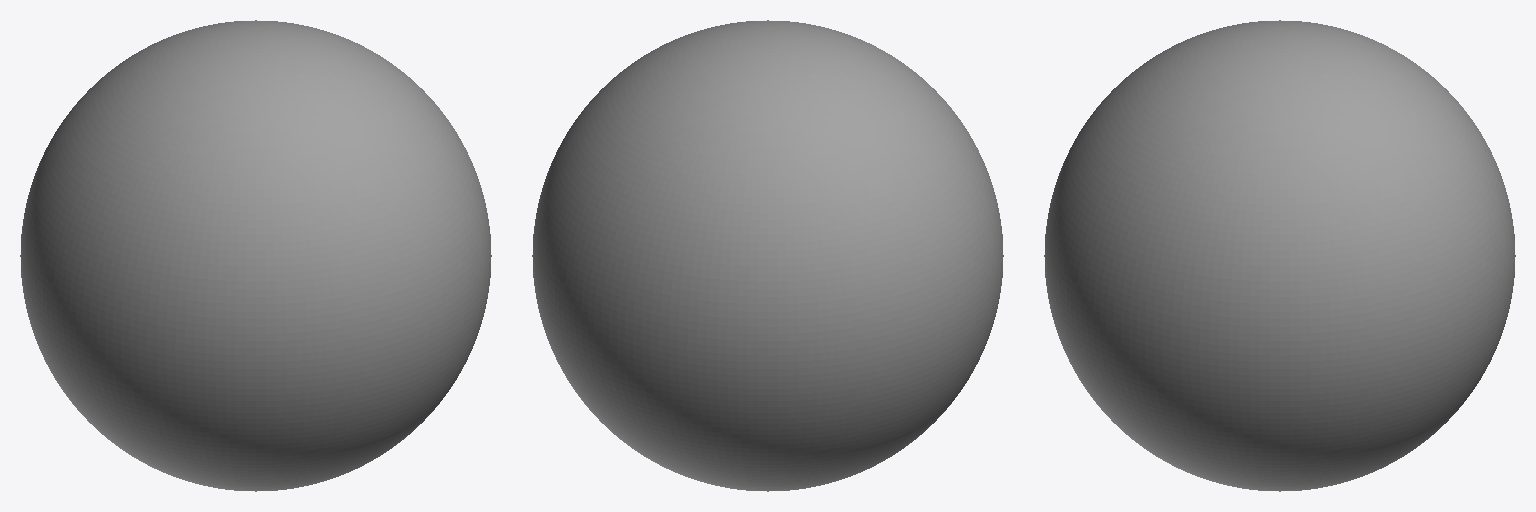
File: earth.obj
3 renders of one model, left to right at view 1: azimuth 30°, elevation 25°; view 2: azimuth 150°, elevation 25°; view 3: azimuth 270°, elevation 25°, orthographic.
Visible parts, largest first — view 1: Sphere; view 2: Sphere; view 3: Sphere.
Part boxes in pixels (bbox=[...]): Sphere: bbox=[20, 20, 491, 491]; Sphere: bbox=[532, 20, 1003, 491]; Sphere: bbox=[1044, 20, 1515, 491].
Size of the model in its own units: 2 by 2 by 2.